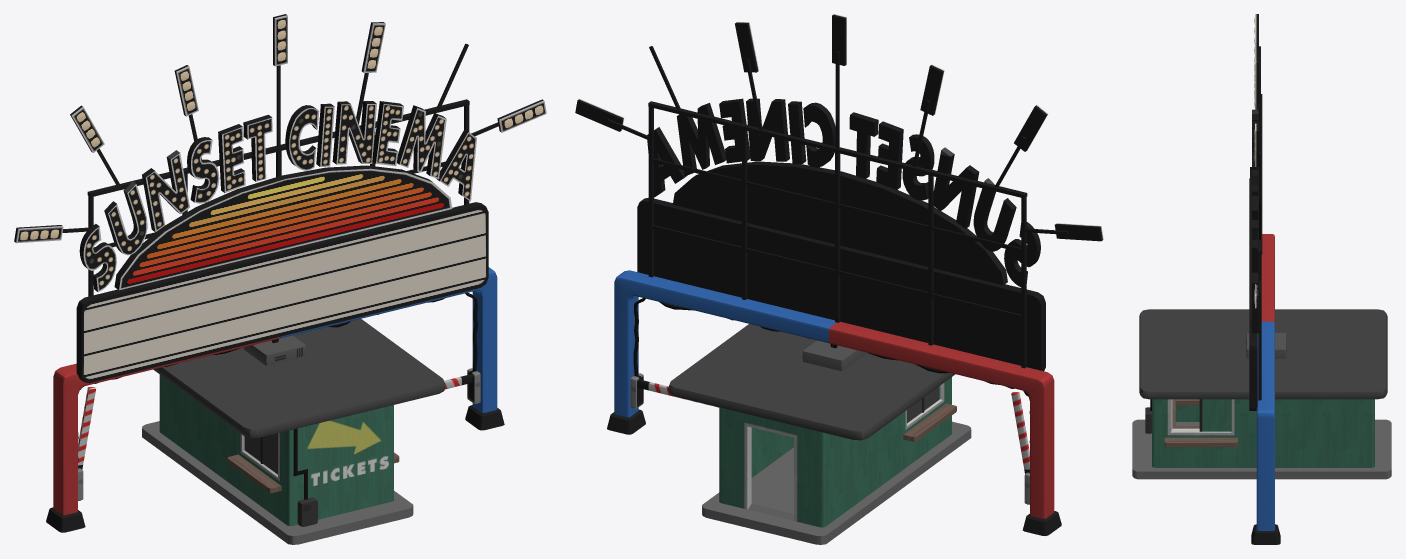
The model's file is sunset cinma.glb.
3 views of the same model, side by side, from view 1: azimuth 30°, elevation 25°; view 2: azimuth 150°, elevation 25°; view 3: azimuth 270°, elevation 25° (orthographic). The views are drawn at different scales.
Parts seen in each view (by area): view 1: Booth_SunsetCinema_LOD0; view 2: Booth_SunsetCinema_LOD0; view 3: Booth_SunsetCinema_LOD0.
Boxes of the visible parts, left/top/right/bottom form: Booth_SunsetCinema_LOD0: left=14, top=14, right=546, bottom=544; Booth_SunsetCinema_LOD0: left=575, top=14, right=1103, bottom=544; Booth_SunsetCinema_LOD0: left=1132, top=14, right=1391, bottom=544.
Bounding box in the file's own units: 16.38 × 13.61 × 8.14.
1 material, 1 textured.
